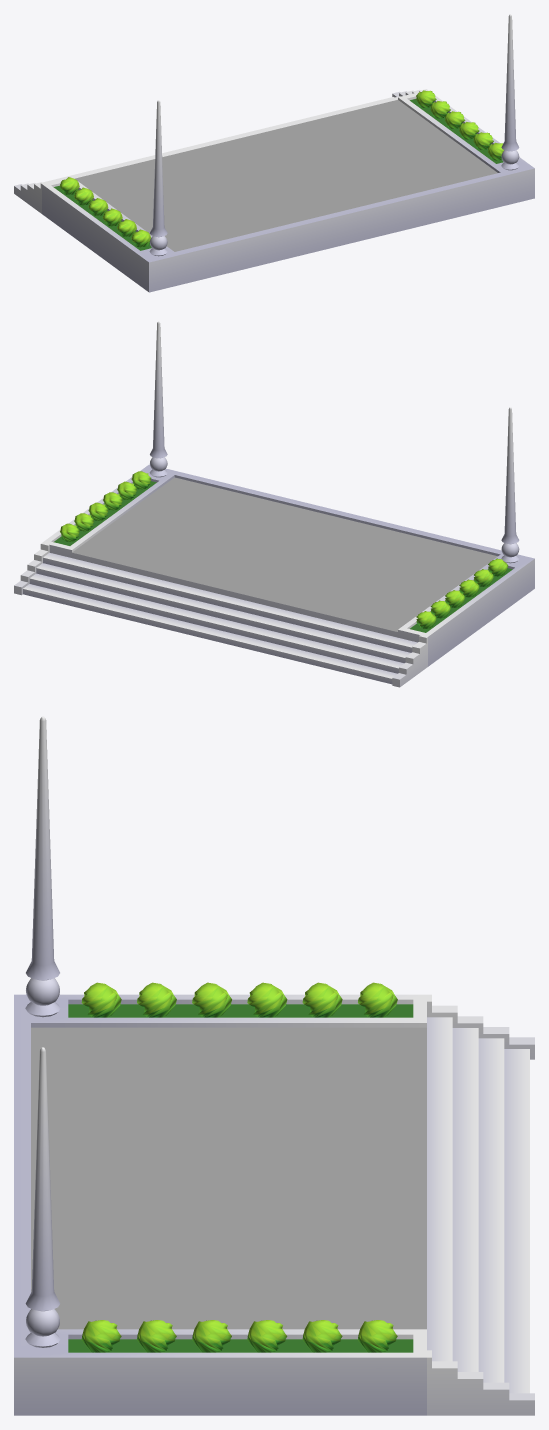
The model's file is RV_ARENA.fbx.
3 views of the same model, one above another, from view 1: azimuth 30°, elevation 25°; view 2: azimuth 150°, elevation 25°; view 3: azimuth 270°, elevation 25° (orthographic). The views are drawn at different scales.
Visible parts, largest first — view 1: RV_ARENA; view 2: RV_ARENA; view 3: RV_ARENA.
Boxes of the visible parts, bbox=[...] form: RV_ARENA: bbox=[14, 14, 534, 292]; RV_ARENA: bbox=[14, 321, 534, 687]; RV_ARENA: bbox=[14, 716, 534, 1415].
Bounding box in the file's own units: 5000 × 2259 × 3034.
2 materials, 1 textured.
